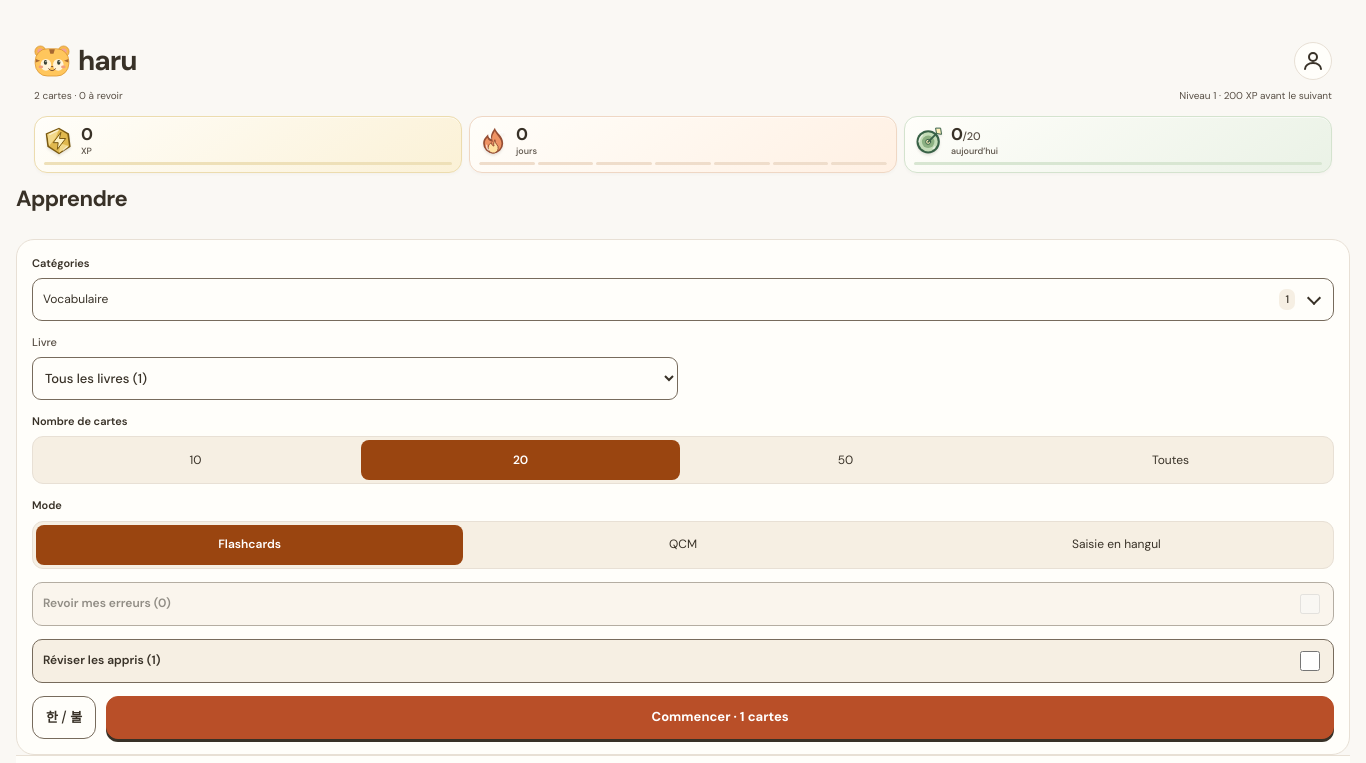
Test: mastered words › leaves mastered words out of a normal series and offers them in review
Expected: the button "Commencer · 1 cartes" is shown, [106, 696, 1334, 739]
Click the checkbox labelled "Réviser les appris (1)". click: (1310, 661)
box: [1300, 651, 1320, 671]
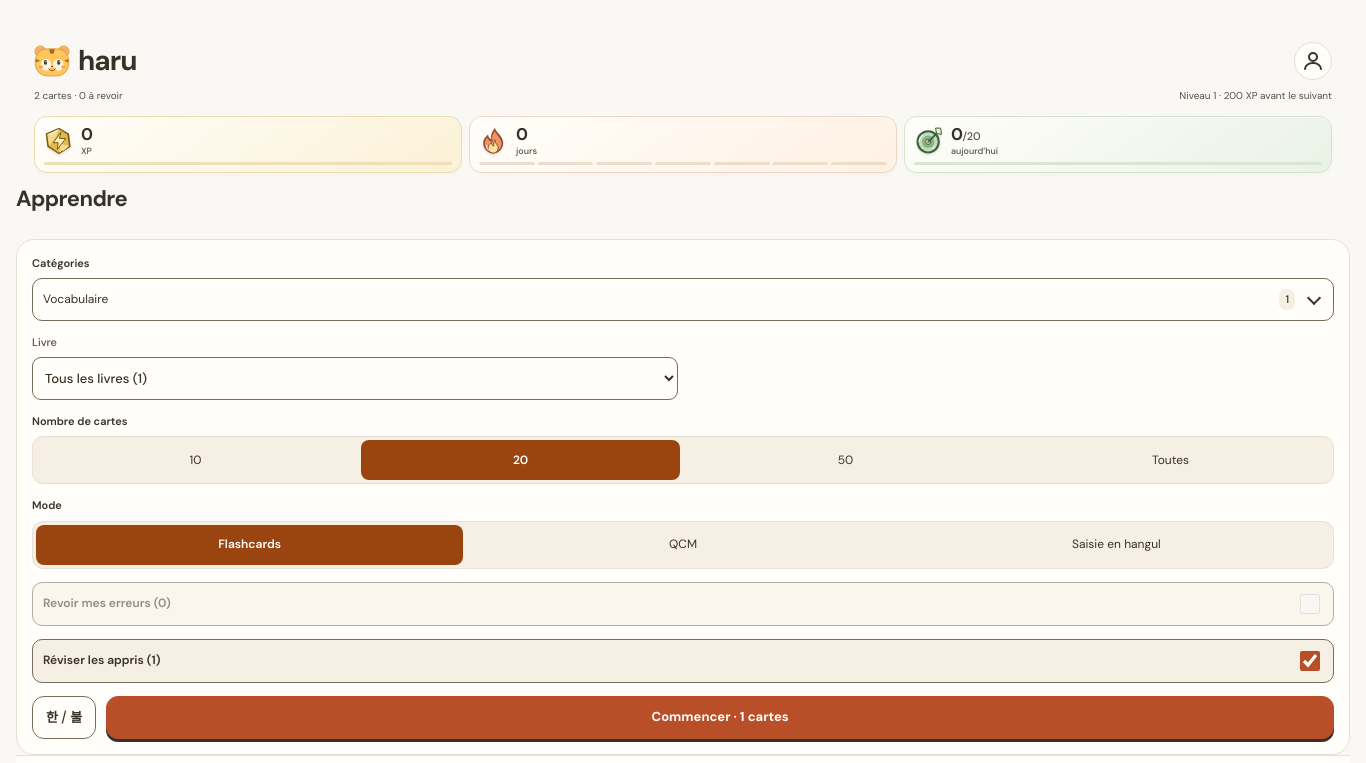
Click the button "Commencer · 1 cartes". click: (720, 717)
box: [106, 696, 1334, 739]
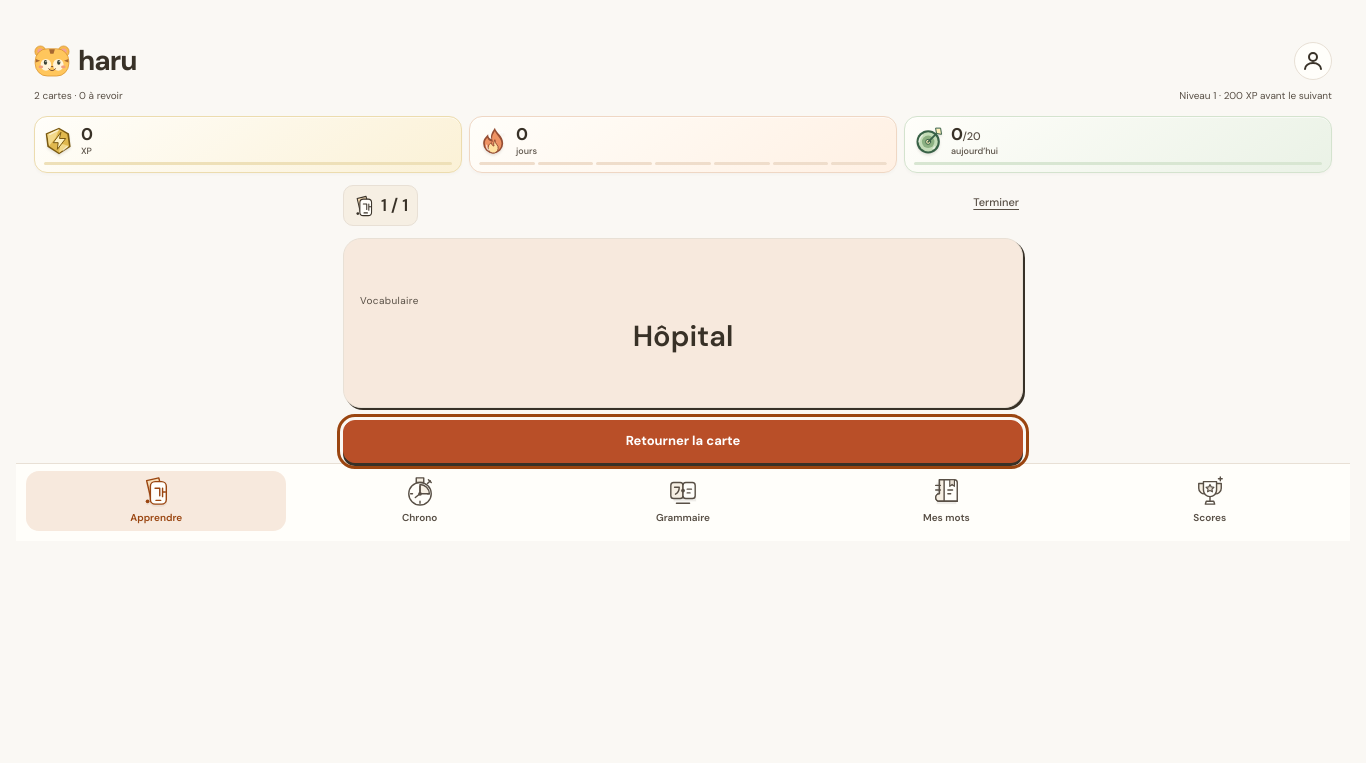
Now the text "Hôpital" is shown, box [633, 318, 733, 354]
